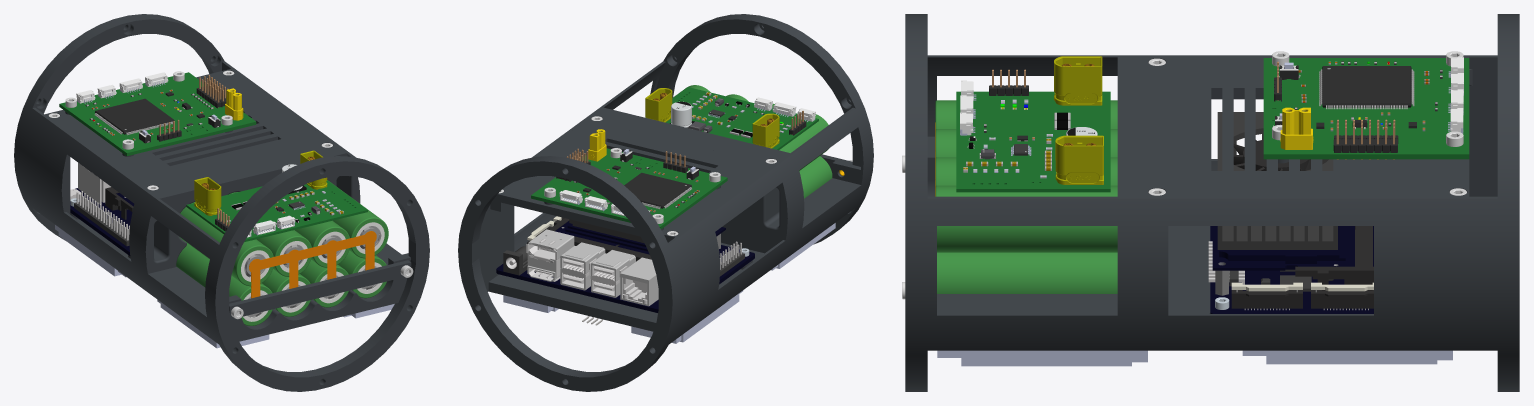
The model's file is Electronics_Assembly_-_URDF.glb.
3 renders of one model, left to right at view 1: azimuth 30°, elevation 25°; view 2: azimuth 150°, elevation 25°; view 3: azimuth 270°, elevation 25°, orthographic. The views are drawn at different scales.
Parts seen in each view (by area): view 1: Internal_Frame.step-1, Second Level.step-1, Board.step-1_Open CASCADE STEP translator 7.5 1.1.1.step-1-s, Battery Pack Assembly _1_.step-1/BMS.step-1_Board.step-1_Ope, Jetson Nano.step-1, Wall.step-1, Battery Pack Assembly _1_.step-1/Nickel Strip.step-1, Battery Pack Assembly _1_.step-1/Lithium Battery Cell.step-8, Battery Pack Assembly _1_.step-1/Lithium Battery Cell.step-3, U1.step-1_6869410480.step-1-solid2.step-1, Battery Pack Assembly _1_.step-1/Lithium Battery Cell.step-1, Battery Pack Assembly _1_.step-1/Lithium Battery Cell.step-2 (+8 smaller); view 2: Internal_Frame.step-1, Jetson Nano.step-1, Second Level.step-1, Board.step-1_Open CASCADE STEP translator 7.5 1.1.1.step-1-s, Battery Pack Assembly _1_.step-1/BMS.step-1_Board.step-1_Ope, U1.step-1_6869410480.step-1-solid2.step-1, Battery Pack Assembly _1_.step-1/Lithium Battery Cell.step-8, Battery Pack Assembly _1_.step-1/BMS.step-1_J3.step-1_XT60UP, Battery Pack Assembly _1_.step-1/BMS.step-1_J2.step-1_XT60UP, ESC.step-1, Battery Pack Assembly _1_.step-1/Lithium Battery Cell.step-3, J5.step-1_XT30U-F_119713791.step-1_XT30_Buchse.step-1-solid1 (+3 smaller); view 3: Internal_Frame.step-1, Second Level.step-1, Jetson Nano.step-1, Board.step-1_Open CASCADE STEP translator 7.5 1.1.1.step-1-s, Battery Pack Assembly _1_.step-1/BMS.step-1_Board.step-1_Ope, Battery Pack Assembly _1_.step-1/Lithium Battery Cell.step-4, Battery Pack Assembly _1_.step-1/Lithium Battery Cell.step-1, U1.step-1_6869410480.step-1-solid2.step-1, ESC.step-2, ESC.step-3, Battery Pack Assembly _1_.step-1/BMS.step-1_J3.step-1_XT60UP, Battery Pack Assembly _1_.step-1/BMS.step-1_J2.step-1_XT60UP (+5 smaller).
Boxes of the visible parts, left/top/right/bottom form: Internal_Frame.step-1: left=14, top=14, right=429, bottom=391; Second Level.step-1: left=45, top=69, right=336, bottom=191; Board.step-1_Open CASCADE STEP translator 7.5 1.1.1.step-1-s: left=59, top=72, right=256, bottom=155; Battery Pack Assembly _1_.step-1/BMS.step-1_Board.step-1_Ope: left=186, top=180, right=367, bottom=241; Jetson Nano.step-1: left=70, top=162, right=134, bottom=255; Wall.step-1: left=229, top=260, right=411, bottom=319; Battery Pack Assembly _1_.step-1/Nickel Strip.step-1: left=249, top=231, right=376, bottom=298; Battery Pack Assembly _1_.step-1/Lithium Battery Cell.step-8: left=176, top=243, right=272, bottom=325; Battery Pack Assembly _1_.step-1/Lithium Battery Cell.step-3: left=180, top=202, right=273, bottom=286; U1.step-1_6869410480.step-1-solid2.step-1: left=95, top=98, right=174, bottom=134; Battery Pack Assembly _1_.step-1/Lithium Battery Cell.step-1: left=327, top=180, right=388, bottom=258; Battery Pack Assembly _1_.step-1/Lithium Battery Cell.step-2: left=229, top=192, right=311, bottom=276; Internal_Frame.step-1: left=458, top=14, right=873, bottom=391; Jetson Nano.step-1: left=496, top=216, right=754, bottom=312; Second Level.step-1: left=493, top=114, right=780, bottom=242; Board.step-1_Open CASCADE STEP translator 7.5 1.1.1.step-1-s: left=531, top=148, right=727, bottom=229; Battery Pack Assembly _1_.step-1/BMS.step-1_Board.step-1_Ope: left=666, top=87, right=818, bottom=150; U1.step-1_6869410480.step-1-solid2.step-1: left=624, top=172, right=691, bottom=208; Battery Pack Assembly _1_.step-1/Lithium Battery Cell.step-8: left=799, top=156, right=832, bottom=198; Battery Pack Assembly _1_.step-1/BMS.step-1_J3.step-1_XT60UP: left=752, top=113, right=779, bottom=148; Battery Pack Assembly _1_.step-1/BMS.step-1_J2.step-1_XT60UP: left=645, top=88, right=672, bottom=122; ESC.step-1: left=631, top=290, right=743, bottom=343; Battery Pack Assembly _1_.step-1/Lithium Battery Cell.step-3: left=779, top=114, right=828, bottom=170; J5.step-1_XT30U-F_119713791.step-1_XT30_Buchse.step-1-solid1: left=588, top=129, right=606, bottom=161; Internal_Frame.step-1: left=905, top=14, right=1519, bottom=391; Second Level.step-1: left=1146, top=57, right=1469, bottom=196; Jetson Nano.step-1: left=1208, top=112, right=1373, bottom=313; Board.step-1_Open CASCADE STEP translator 7.5 1.1.1.step-1-s: left=1263, top=58, right=1469, bottom=159; Battery Pack Assembly _1_.step-1/BMS.step-1_Board.step-1_Ope: left=956, top=91, right=1110, bottom=192; Battery Pack Assembly _1_.step-1/Lithium Battery Cell.step-4: left=937, top=252, right=1117, bottom=293; Battery Pack Assembly _1_.step-1/Lithium Battery Cell.step-1: left=935, top=185, right=1117, bottom=252; U1.step-1_6869410480.step-1-solid2.step-1: left=1322, top=66, right=1411, bottom=107; ESC.step-2: left=937, top=350, right=1147, bottom=366; ESC.step-3: left=1242, top=350, right=1452, bottom=364; Battery Pack Assembly _1_.step-1/BMS.step-1_J3.step-1_XT60UP: left=1054, top=56, right=1102, bottom=105; Battery Pack Assembly _1_.step-1/BMS.step-1_J2.step-1_XT60UP: left=1055, top=135, right=1103, bottom=184.
Size of the model in its own units: 0.1195 by 0.1192 by 0.195.
